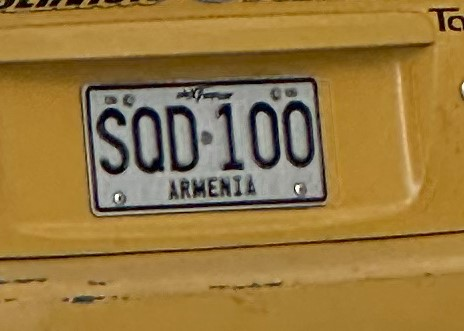number plate: (0, 2, 463, 257), (83, 78, 325, 215), (0, 0, 58, 10)
